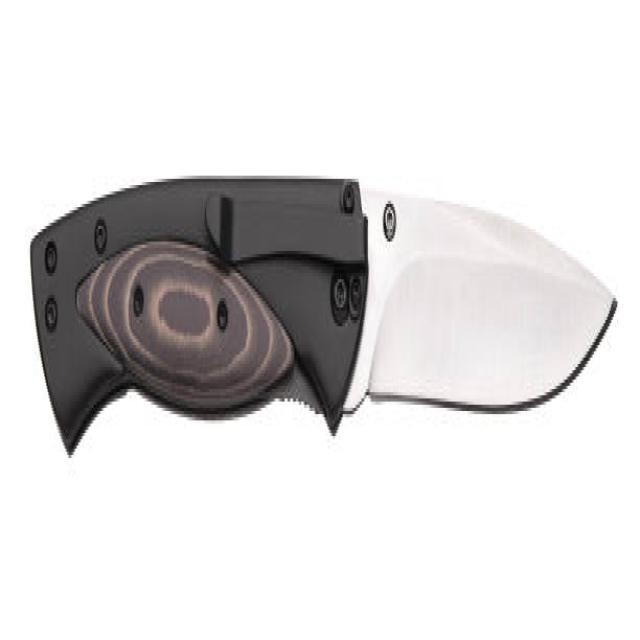knife: (31, 149, 625, 493)
